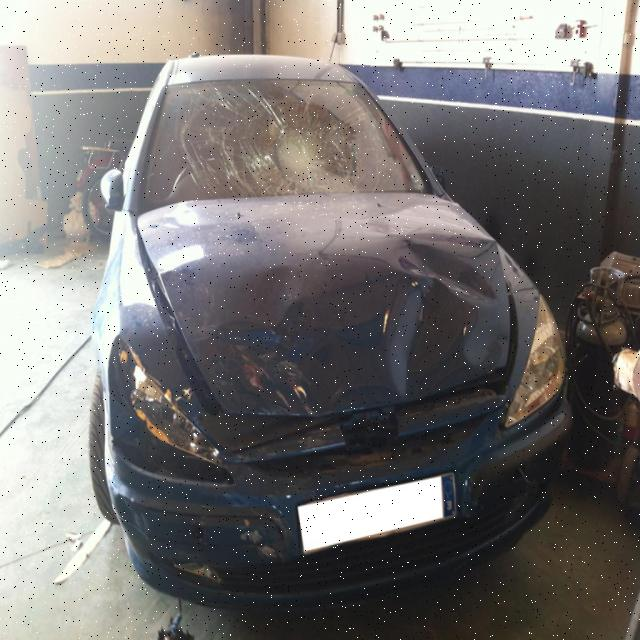damage: (136, 192, 509, 418), (115, 334, 222, 467), (239, 528, 281, 560)
